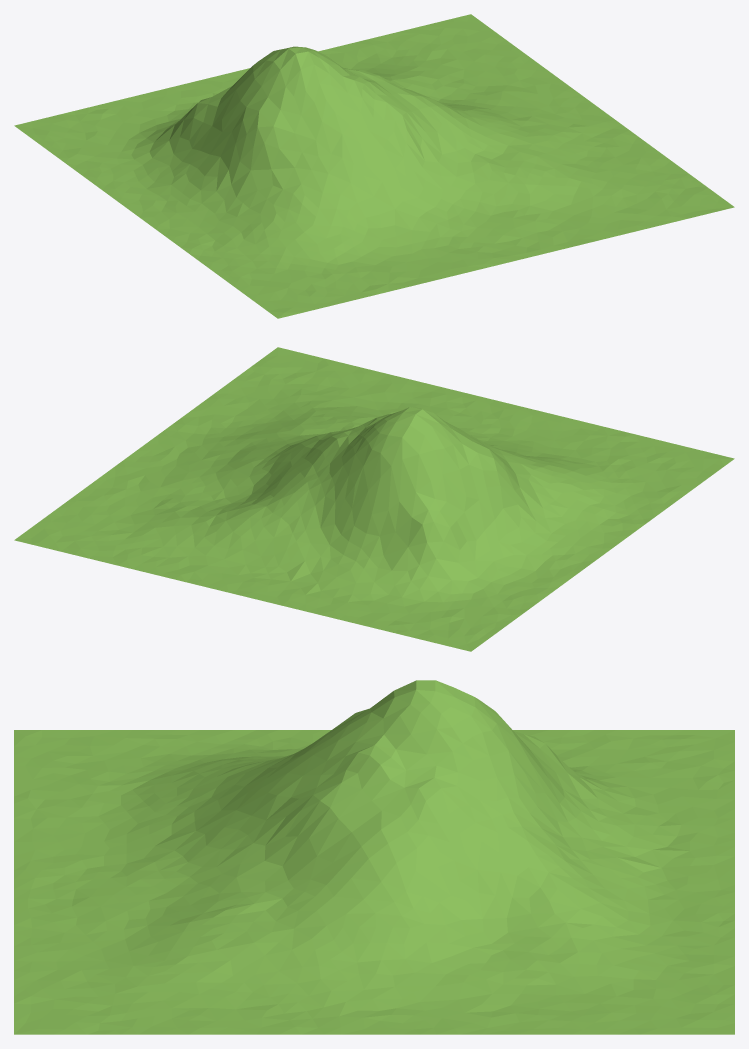
File: MT_Terrain_L_a_29_LOD.fbx
The picture shows the model from 3 angles, top to bottom: view 1: azimuth 30°, elevation 25°; view 2: azimuth 150°, elevation 25°; view 3: azimuth 270°, elevation 25°; orthographic projection. The views are drawn at different scales.
Parts seen in each view (by area): view 1: MT_Terrain_L_a_29_LOD0; view 2: MT_Terrain_L_a_29_LOD0; view 3: MT_Terrain_L_a_29_LOD0.
Part boxes in pixels (x1,y1,x2,y2): MT_Terrain_L_a_29_LOD0: (14, 14, 734, 318); MT_Terrain_L_a_29_LOD0: (14, 347, 734, 651); MT_Terrain_L_a_29_LOD0: (14, 680, 734, 1034).
Size of what is drawn, in the model's own units: 10000 by 2456 by 10000.
